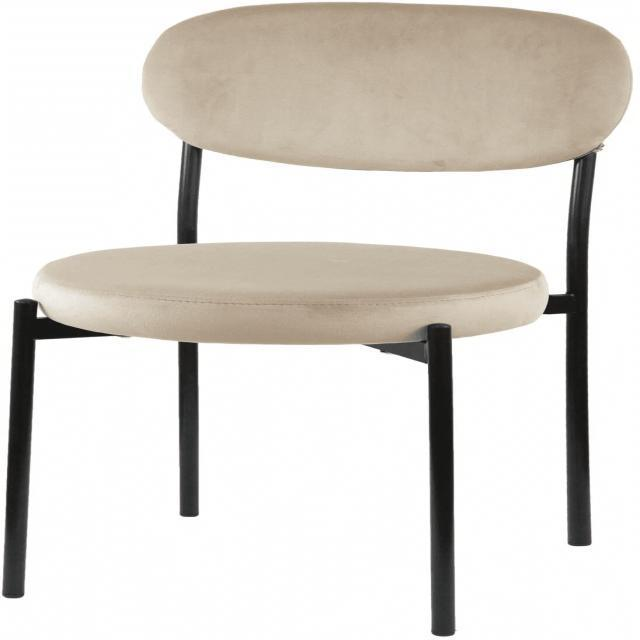chair: (2, 0, 640, 637), (29, 2, 631, 337)
